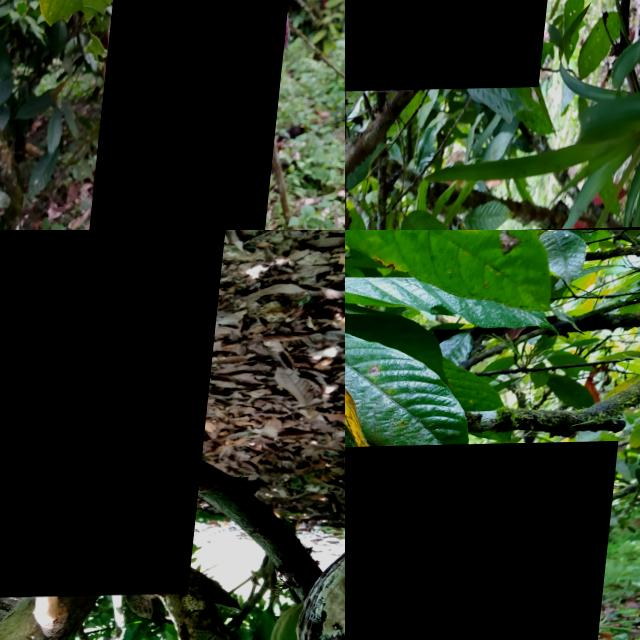Fitoftora: (0, 230, 231, 599), (345, 443, 623, 640)
Monilia: (86, 0, 308, 230), (345, 0, 566, 93), (302, 511, 345, 640)
